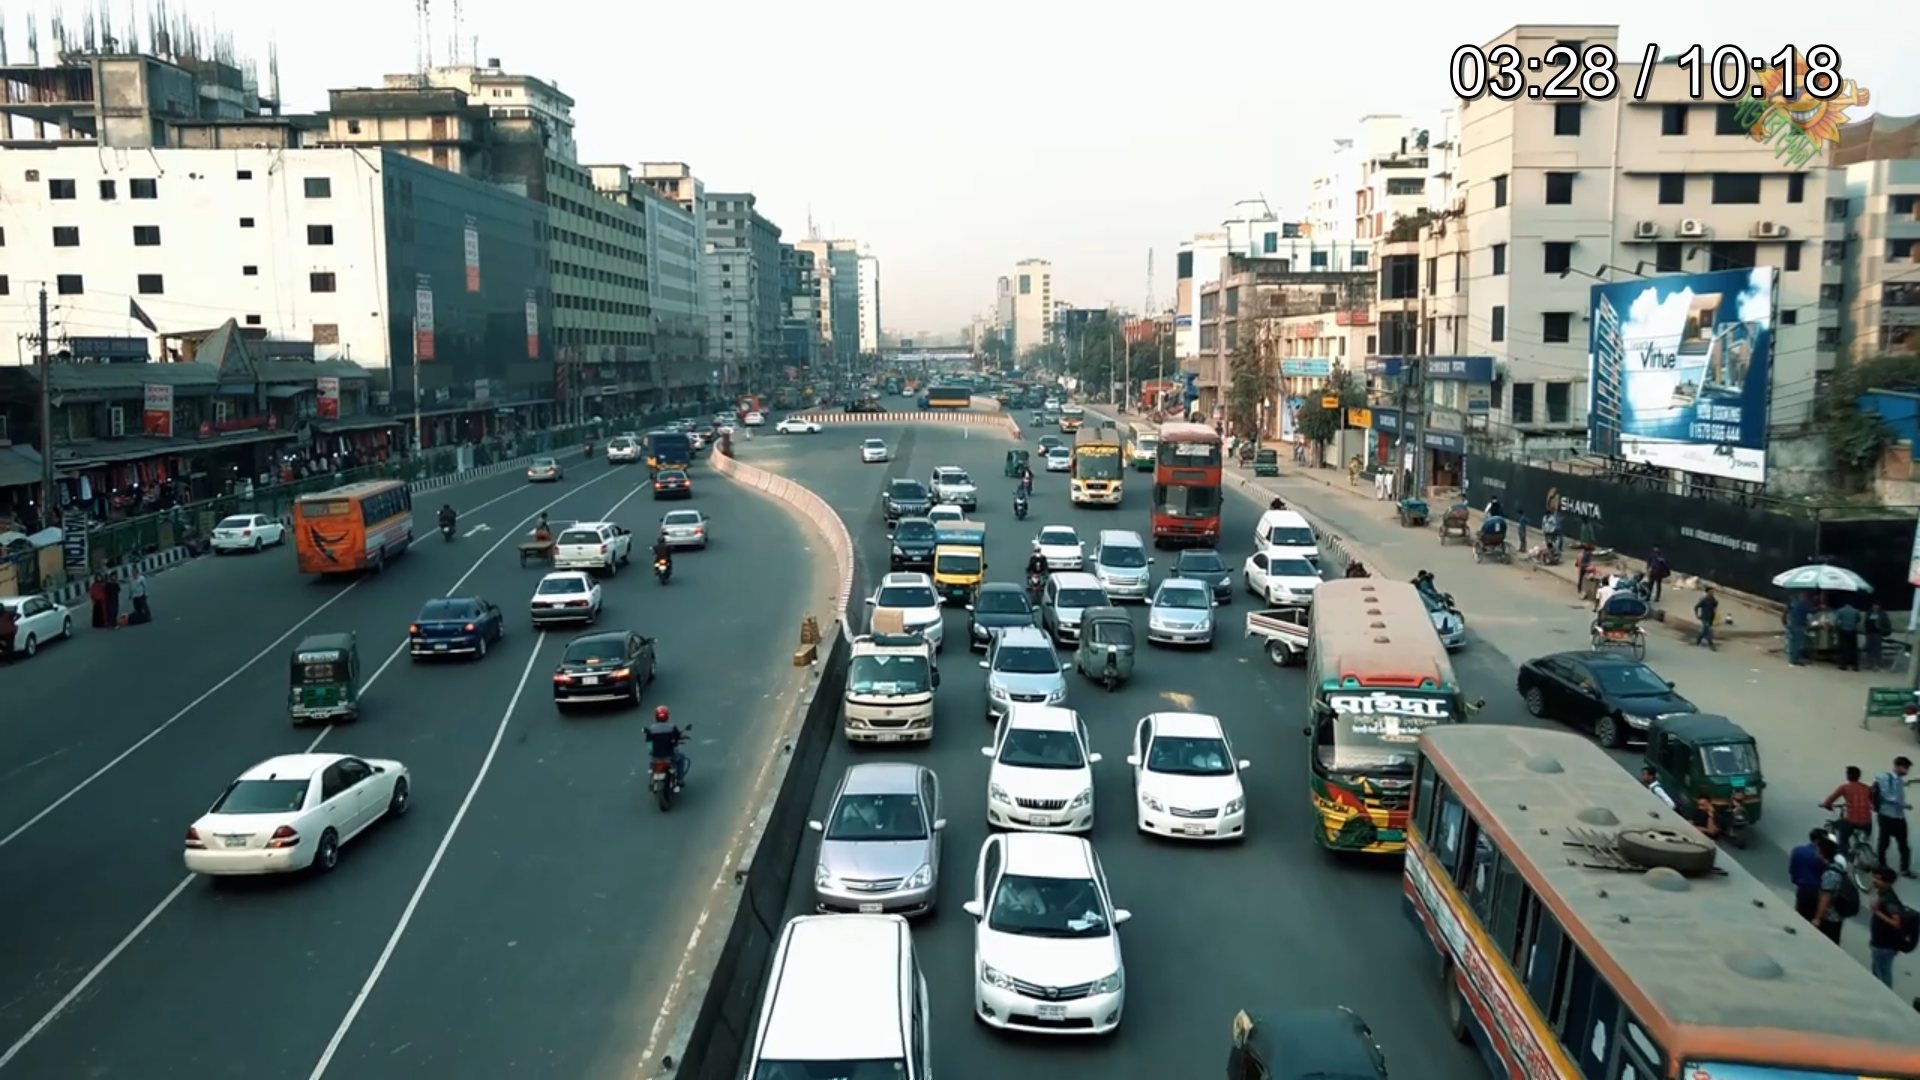MotorCycle: (640, 695, 694, 822), (431, 495, 462, 550), (653, 534, 674, 585), (1007, 484, 1031, 521)
